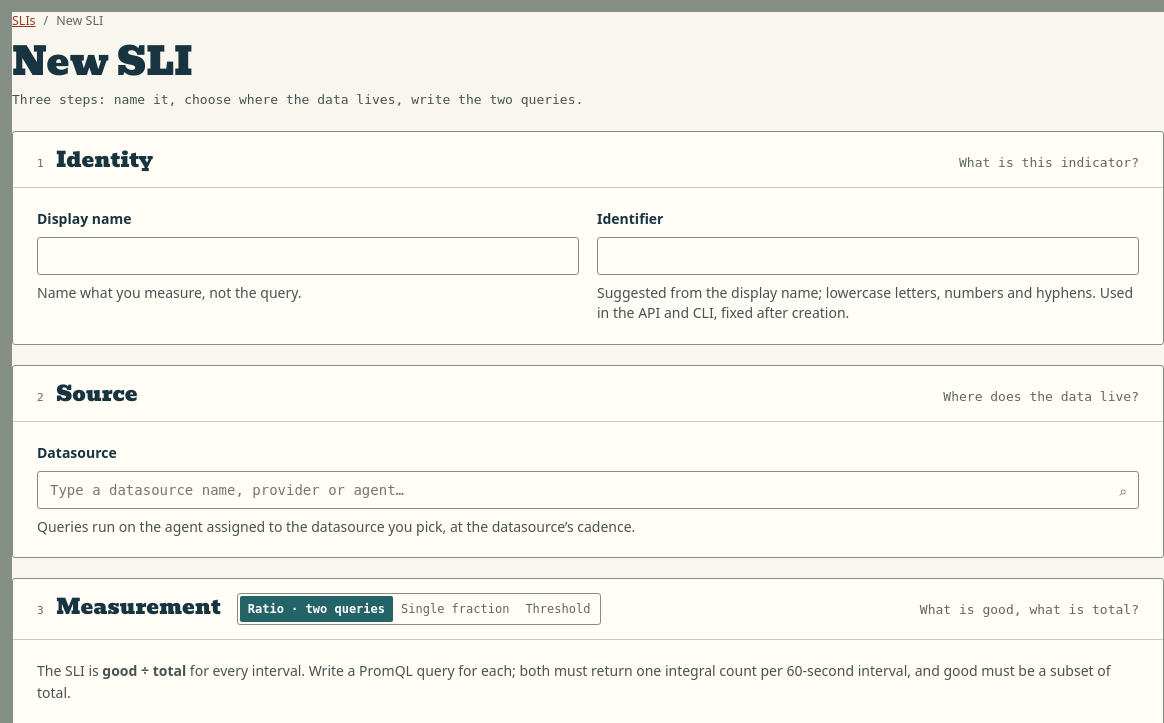
Test case: SLI page › loads later datasource pages for creation
Click the dropdown labelled "Datasource": [588, 490] box 37,471 -> 1139,509
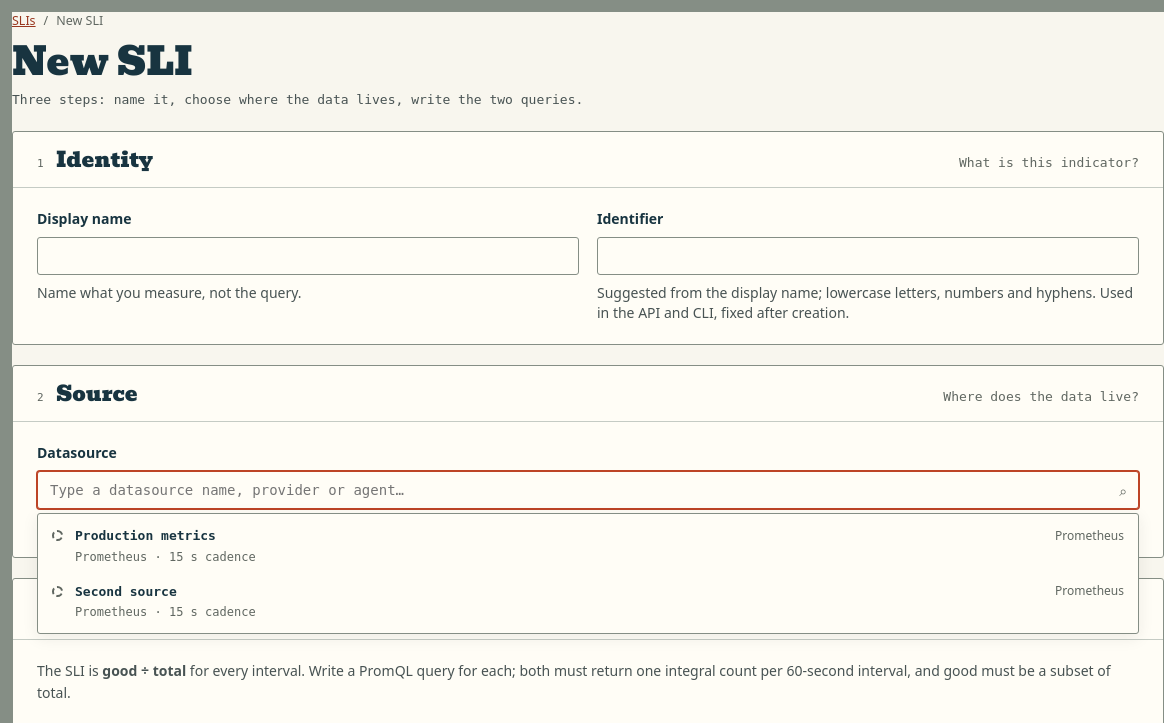
Expected: the option "Second source Prometheus Prometheus · 15 s cadence" is shown, 42,574 -> 1134,629
